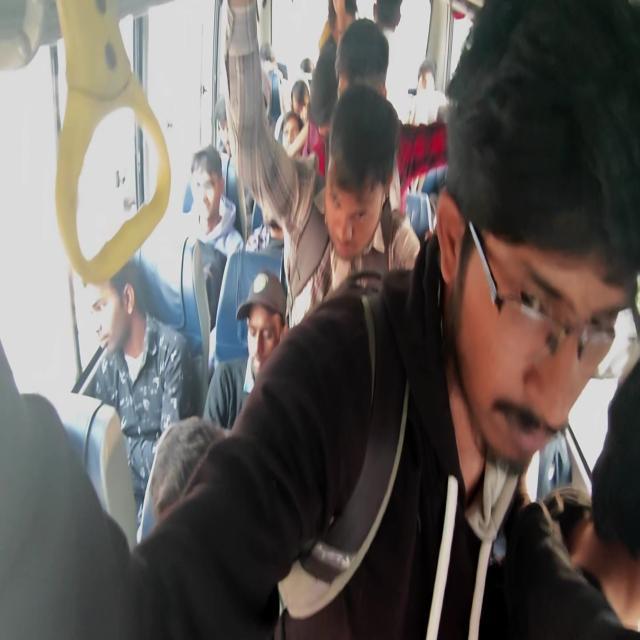person: (1, 1, 639, 637), (224, 0, 422, 327), (82, 258, 194, 526), (568, 353, 640, 634), (202, 269, 288, 430), (139, 414, 230, 544), (187, 144, 244, 259), (409, 57, 448, 126)
